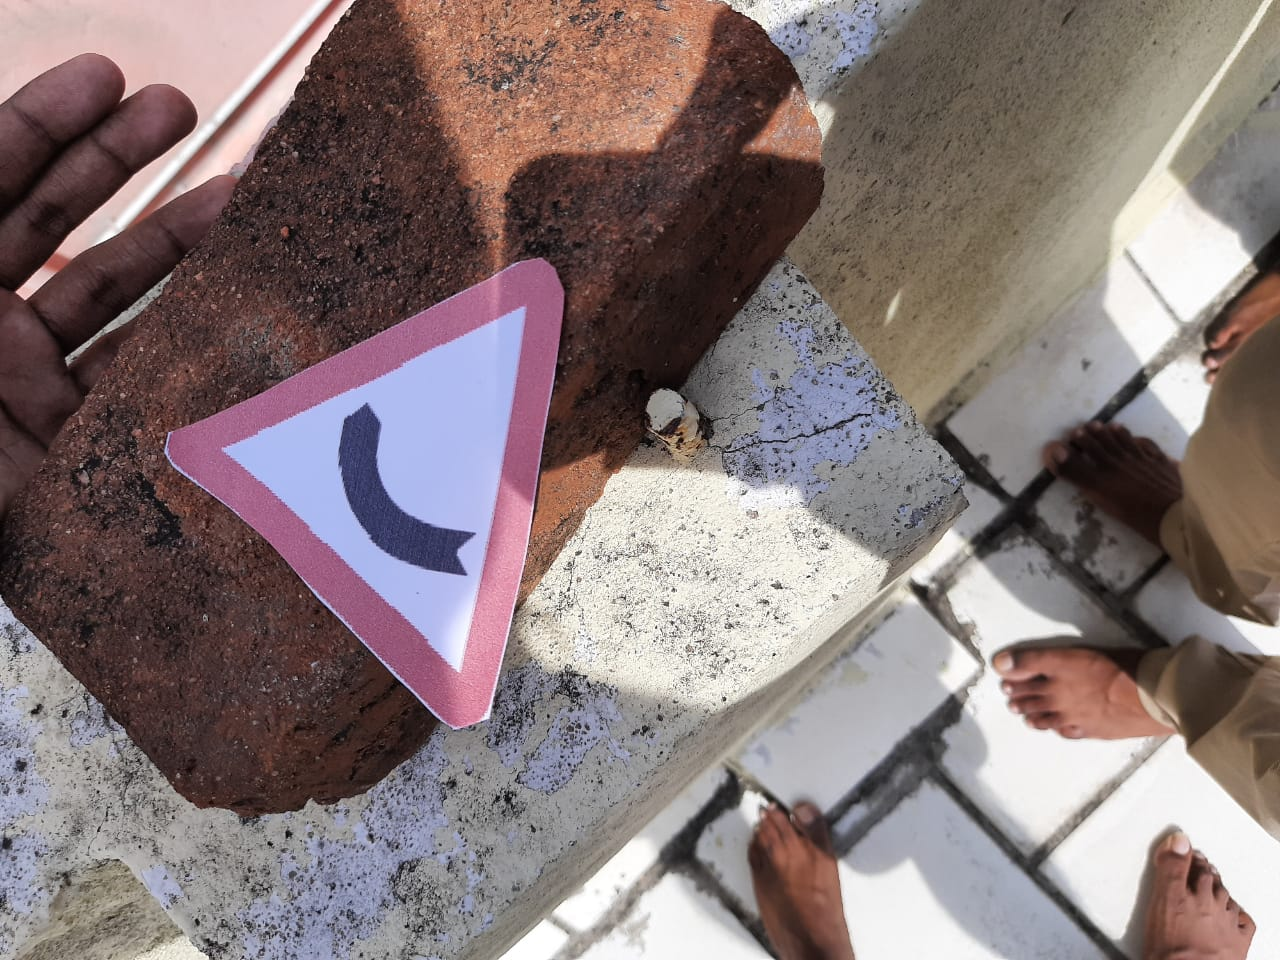RIGHT CURVE: (169, 240, 573, 724)
